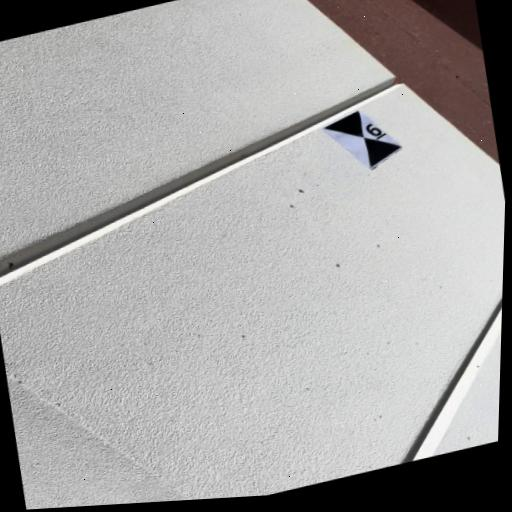target6: (321, 107, 404, 169)
